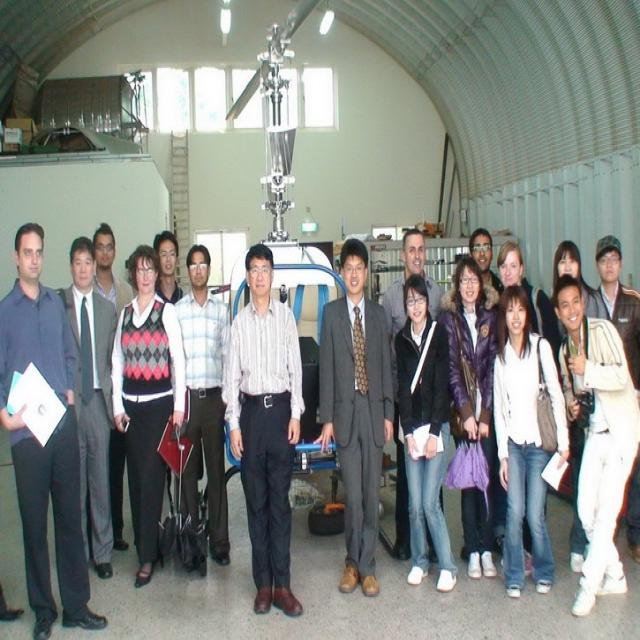body: (0, 219, 110, 638), (222, 240, 306, 620), (312, 235, 396, 600), (552, 272, 639, 619), (109, 242, 189, 593), (491, 278, 572, 598), (381, 225, 447, 567), (55, 234, 120, 580), (393, 270, 460, 596), (548, 238, 608, 576), (440, 254, 500, 578), (173, 242, 232, 566), (84, 221, 133, 563), (494, 239, 562, 391), (588, 234, 639, 389), (468, 226, 504, 312), (153, 228, 188, 304)
